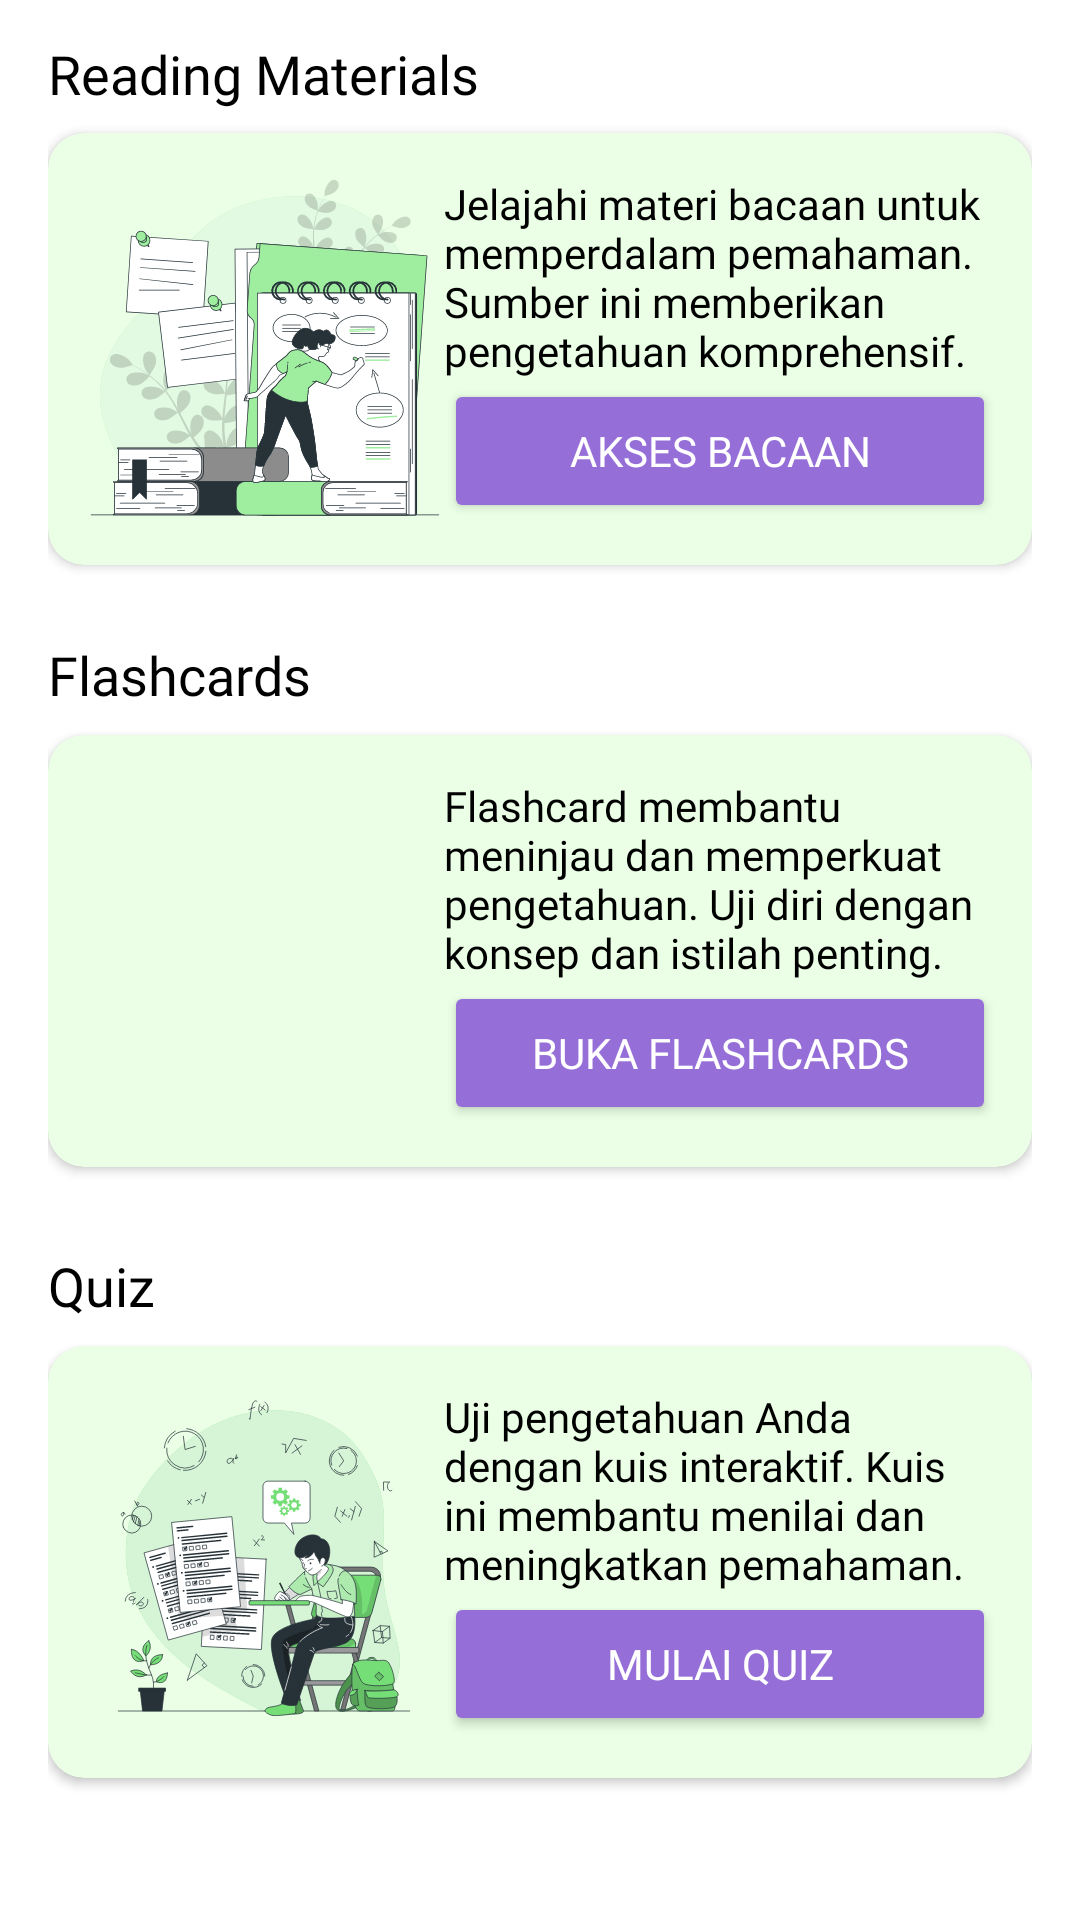

Icon click points for this 1080 x 1920 phone screenshot, format point (x, y):
research paper bro: point (265, 348)
